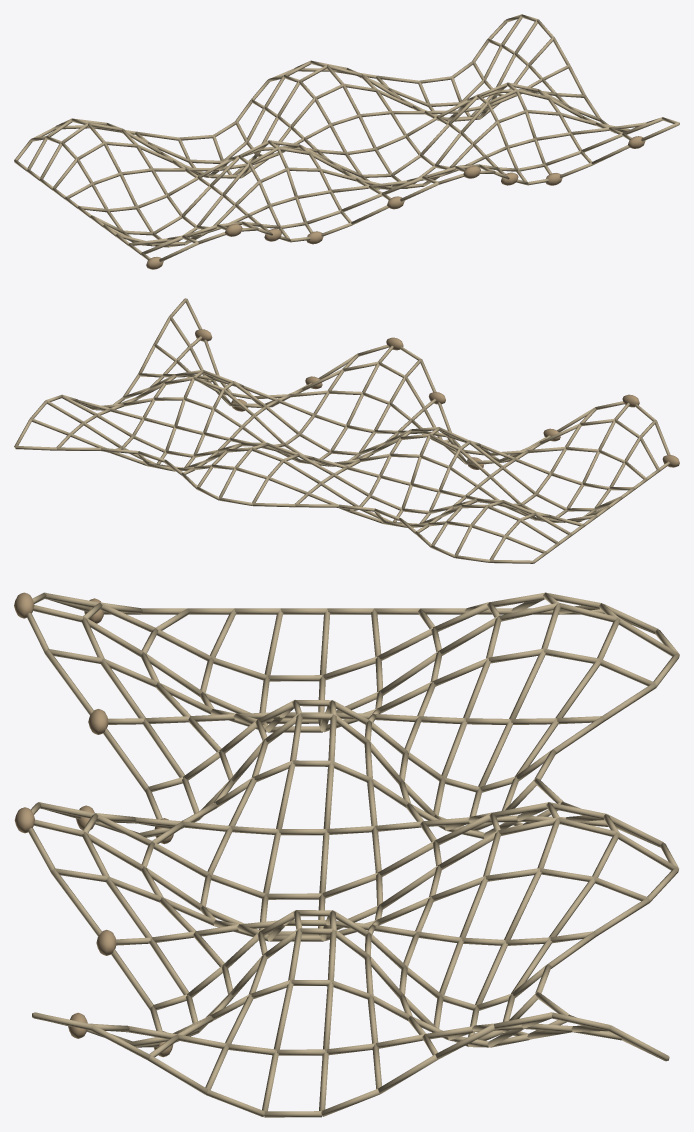
The model's file is SM_Net.fbx.
The picture shows the model from 3 angles, top to bottom: view 1: azimuth 30°, elevation 25°; view 2: azimuth 150°, elevation 25°; view 3: azimuth 270°, elevation 25°; orthographic projection. The views are drawn at different scales.
Parts seen in each view (by area): view 1: SM_Net; view 2: SM_Net; view 3: SM_Net.
Part boxes in pixels (x1,y1,x2,y2): SM_Net: (14, 14, 679, 269); SM_Net: (14, 298, 679, 563); SM_Net: (14, 592, 679, 1117).
Size of the model in its own units: 235 by 142 by 32.94.
